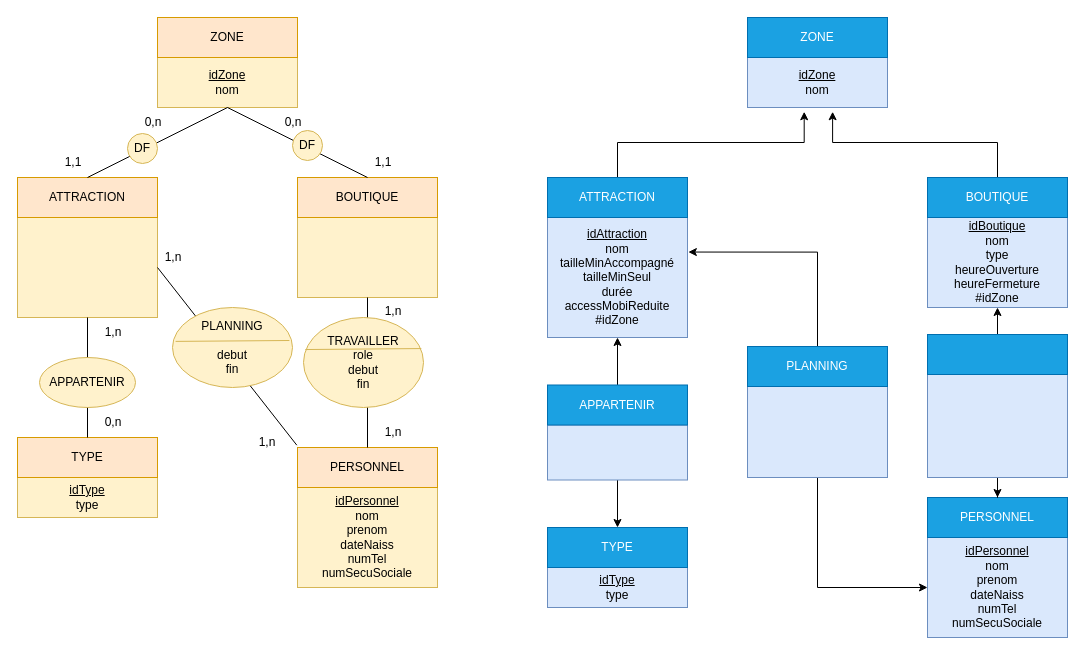
Image size: 1085x655. Some labels were removed from this diagram. The centre of each missing label's shape, as x and y in pixels:
#idAttraction #idPersonnel debut fin jour: point 817,432
#idAttraction #idType: point 617,452
#idBoutique #idPersonnel role debut fin jour: point 997,426
idAttraction nom tailleMinAccompagné tailleMinSeul durée accessMobiReduite: point 87,267
idBoutique nom type heureOuverture heureFermeture: point 367,257
TRAVAILLER: point 997,354
